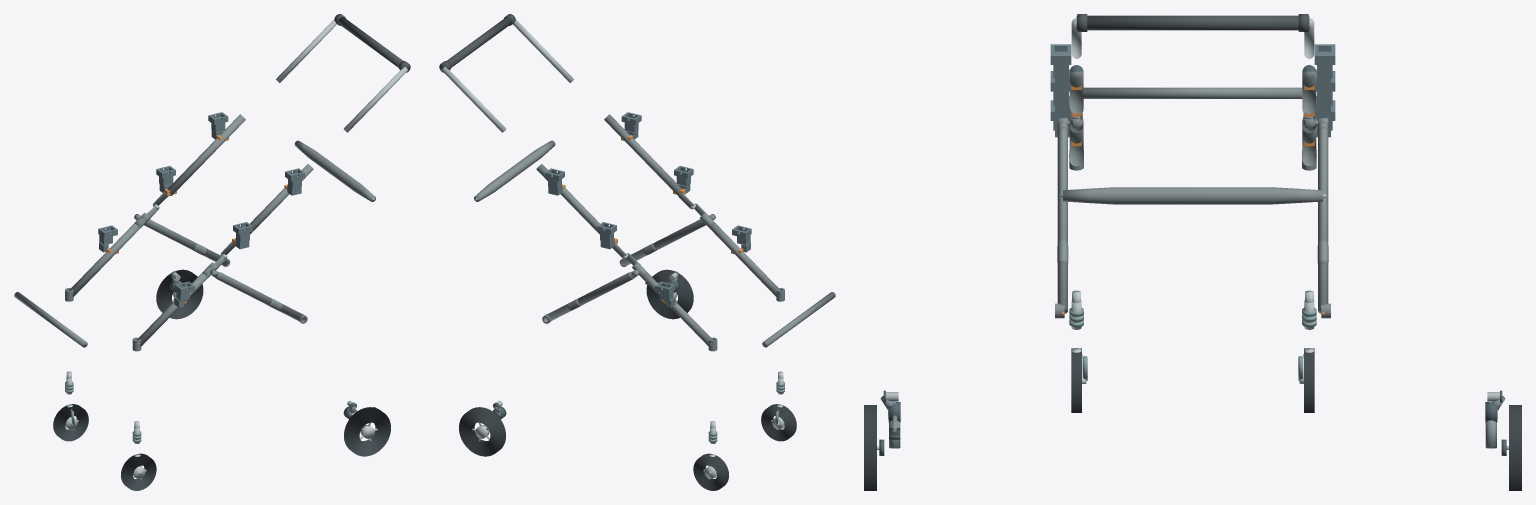
File: w650_state6_wheel_S.glb
The picture shows the model from 3 angles, left to right: view 1: azimuth 30°, elevation 25°; view 2: azimuth 150°, elevation 25°; view 3: azimuth 270°, elevation 25°; orthographic projection. The views are drawn at different scales.
Visible parts, largest first — view 1: RL_tire.016, RR_tire.016, V46_rearbar.014, FL_tire.016, FR_tire.016, main_upper_1.015, main_lower_1.015, round_handle.017, V46_rear_leg_-1.014, V46_rear_leg_1.014, front_fixed_round_tube.015, main_lower_-1.015 (+3 smaller); view 2: RR_tire.016, RL_tire.016, V46_rearbar.014, FR_tire.016, FL_tire.016, main_upper_-1.015, main_lower_-1.015, round_handle.017, V46_rear_leg_1.014, V46_rear_leg_-1.014, front_fixed_round_tube.015, main_lower_1.015 (+3 smaller); view 3: V46_rearbar.014, round_handle.017, front_fixed_round_tube.015, V46_rear_leg_1.014, V46_rear_leg_-1.014, RL_tire.016, RR_tire.016, Universal_Cabin_Receiver_H_1, Universal_Cabin_Receiver_H_-1.
Boxes of the visible parts, bbox=[...] form: RL_tire.016: bbox=[344, 407, 390, 456]; RR_tire.016: bbox=[156, 269, 203, 319]; V46_rearbar.014: bbox=[294, 140, 375, 201]; FL_tire.016: bbox=[121, 453, 156, 490]; FR_tire.016: bbox=[53, 404, 88, 441]; main_upper_1.015: bbox=[167, 114, 245, 195]; main_lower_1.015: bbox=[69, 221, 145, 297]; round_handle.017: bbox=[338, 17, 409, 71]; V46_rear_leg_-1.014: bbox=[216, 272, 303, 320]; V46_rear_leg_1.014: bbox=[144, 219, 228, 266]; front_fixed_round_tube.015: bbox=[14, 292, 87, 347]; main_lower_-1.015: bbox=[137, 273, 210, 346]; RR_tire.016: bbox=[459, 407, 505, 456]; RL_tire.016: bbox=[646, 269, 693, 319]; V46_rearbar.014: bbox=[474, 140, 555, 201]; FR_tire.016: bbox=[693, 453, 728, 490]; FL_tire.016: bbox=[761, 404, 796, 441]; main_upper_-1.015: bbox=[604, 114, 682, 195]; main_lower_-1.015: bbox=[704, 221, 780, 297]; round_handle.017: bbox=[440, 17, 511, 71]; V46_rear_leg_1.014: bbox=[546, 272, 633, 320]; V46_rear_leg_-1.014: bbox=[621, 219, 705, 266]; front_fixed_round_tube.015: bbox=[762, 292, 835, 347]; main_lower_1.015: bbox=[639, 273, 712, 346]; V46_rearbar.014: bbox=[1063, 187, 1322, 204]; round_handle.017: bbox=[1076, 15, 1309, 30]; front_fixed_round_tube.015: bbox=[1083, 87, 1302, 98]; V46_rear_leg_1.014: bbox=[1318, 127, 1328, 313]; V46_rear_leg_-1.014: bbox=[1057, 127, 1067, 313]; RL_tire.016: bbox=[864, 405, 876, 490]; RR_tire.016: bbox=[1509, 405, 1521, 490]; Universal_Cabin_Receiver_H_1: bbox=[1314, 44, 1335, 90]; Universal_Cabin_Receiver_H_-1: bbox=[1050, 44, 1071, 90].
Bounding box in the file's own units: 1.51 × 1.59 × 1.53.
